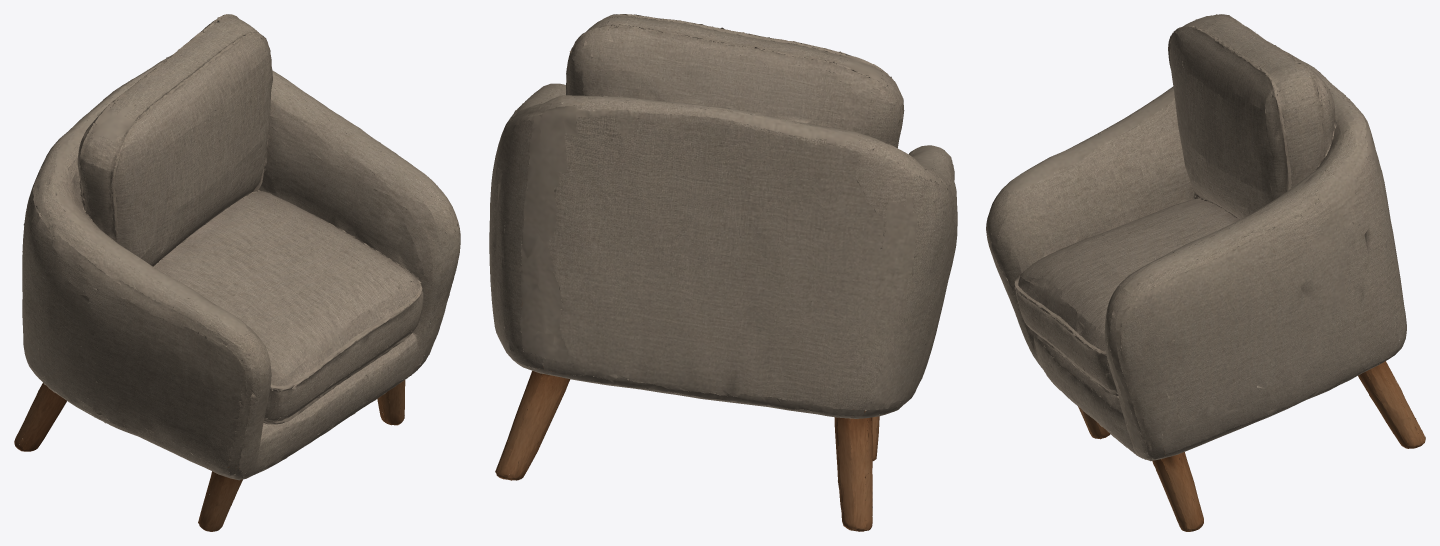
The model's file is chair.glb.
3 renders of one model, left to right at view 1: azimuth 30°, elevation 25°; view 2: azimuth 150°, elevation 25°; view 3: azimuth 270°, elevation 25°, orthographic. The views are drawn at different scales.
Parts seen in each view (by area): view 1: Mesh_0; view 2: Mesh_0; view 3: Mesh_0.
Part boxes in pixels (box(x1,y1,x2,y2)): Mesh_0: box(14, 14, 460, 531); Mesh_0: box(489, 14, 957, 531); Mesh_0: box(986, 14, 1425, 531).
Size of the model in its own units: 0.8816 by 0.9123 by 0.8544.
Materials: 1 (1 with a texture image).
